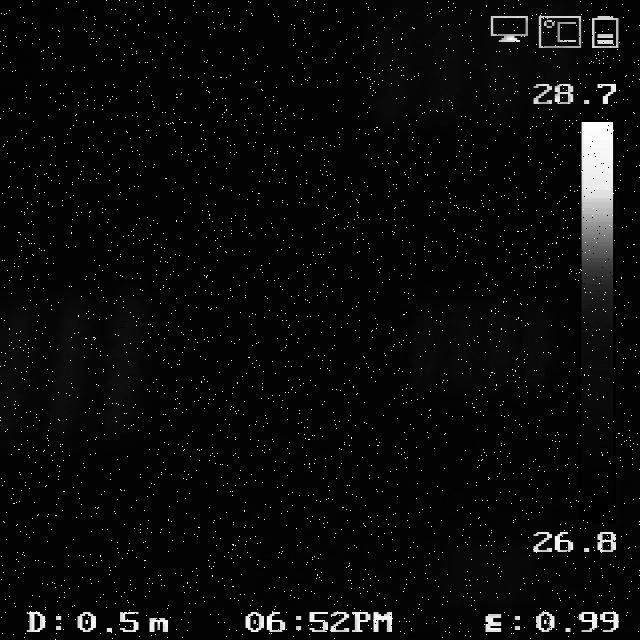Distinguishable 4-bar target: (0, 283, 149, 447)
Indistinguishable 4-bar target: (435, 550, 525, 606)
threshold 4-bar target: (356, 2, 575, 125), (400, 296, 553, 399)
